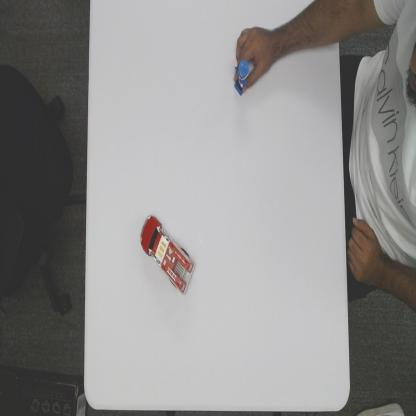Arm: (276, 0, 342, 60)
Firetruck: (139, 214, 196, 296)
Hand: (233, 25, 271, 93)
